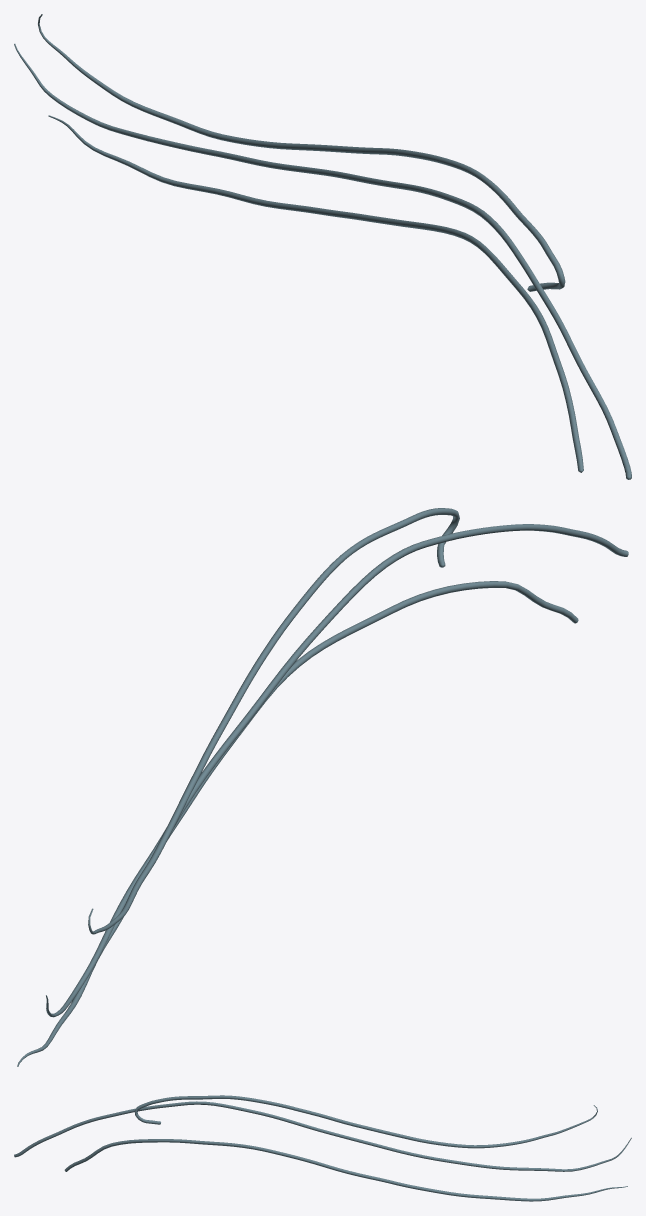
3 views of the same model, one above another, from view 1: azimuth 30°, elevation 25°; view 2: azimuth 150°, elevation 25°; view 3: azimuth 270°, elevation 25° (orthographic). The views are drawn at different scales.
Parts seen in each view (by area): view 1: brush_NeonPulse_g0_b0; view 2: brush_NeonPulse_g0_b0; view 3: brush_NeonPulse_g0_b0.
Part boxes in pixels (left/top/right/bottom): brush_NeonPulse_g0_b0: left=14, top=14, right=631, bottom=479; brush_NeonPulse_g0_b0: left=17, top=508, right=628, bottom=1066; brush_NeonPulse_g0_b0: left=14, top=1095, right=631, bottom=1201.
Bounding box in the file's own units: 0.5487 × 0.8943 × 4.43.
